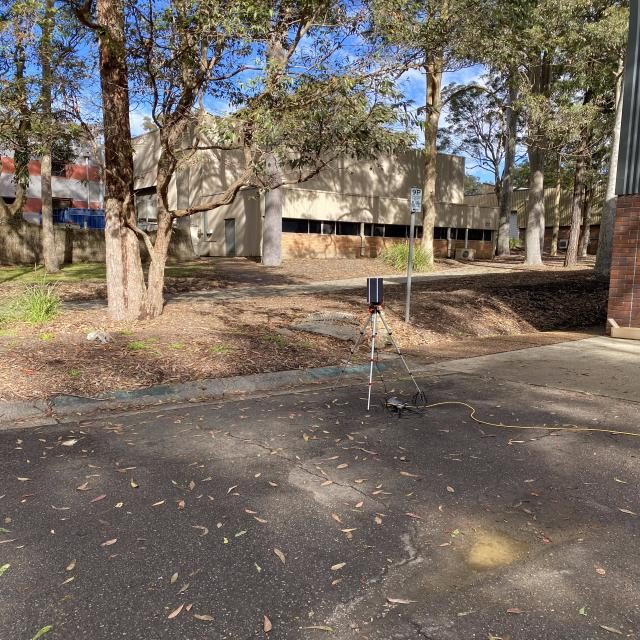matrix: (366, 276, 384, 304)
